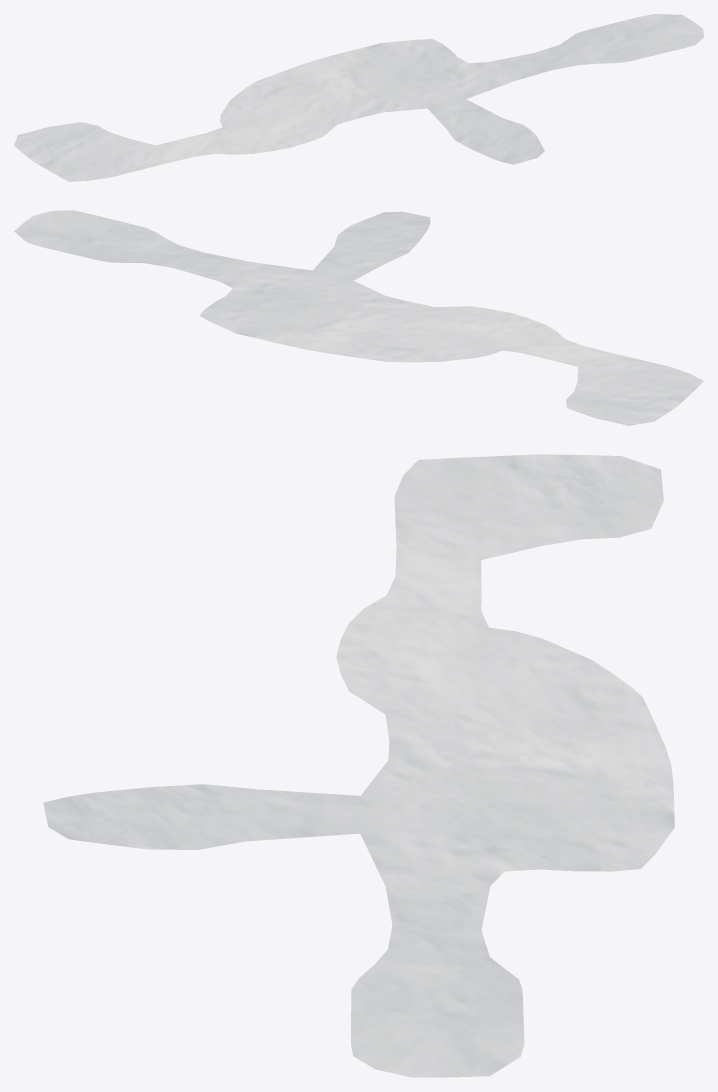
File: terrain.glb
3 renders of one model, top to bottom at view 1: azimuth 30°, elevation 25°; view 2: azimuth 150°, elevation 25°; view 3: azimuth 270°, elevation 25°, orthographic. The views are drawn at different scales.
Visible parts, largest first — view 1: terrain-col; view 2: terrain-col; view 3: terrain-col.
Boxes of the visible parts, bbox=[...] form: terrain-col: bbox=[14, 14, 703, 181]; terrain-col: bbox=[14, 210, 703, 425]; terrain-col: bbox=[43, 454, 674, 1077].
Size of what is drawn, in the model's own units: 386 by 0 by 165.
Materials: 1 (1 with a texture image).
